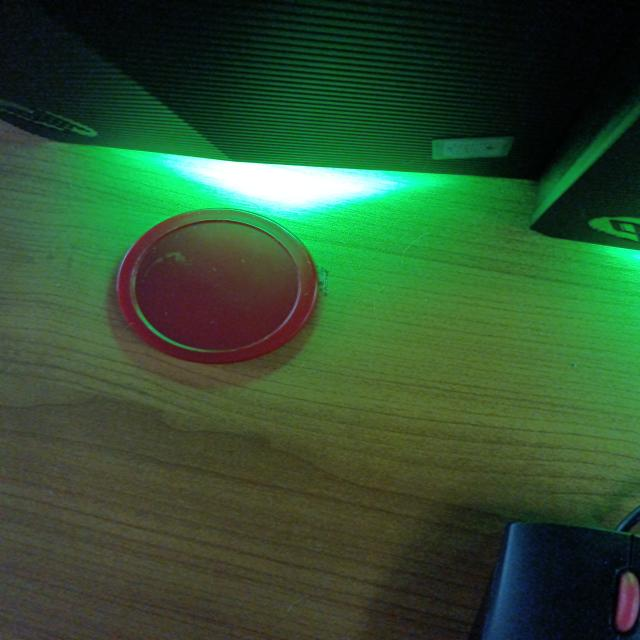chip: (117, 208, 326, 362)
